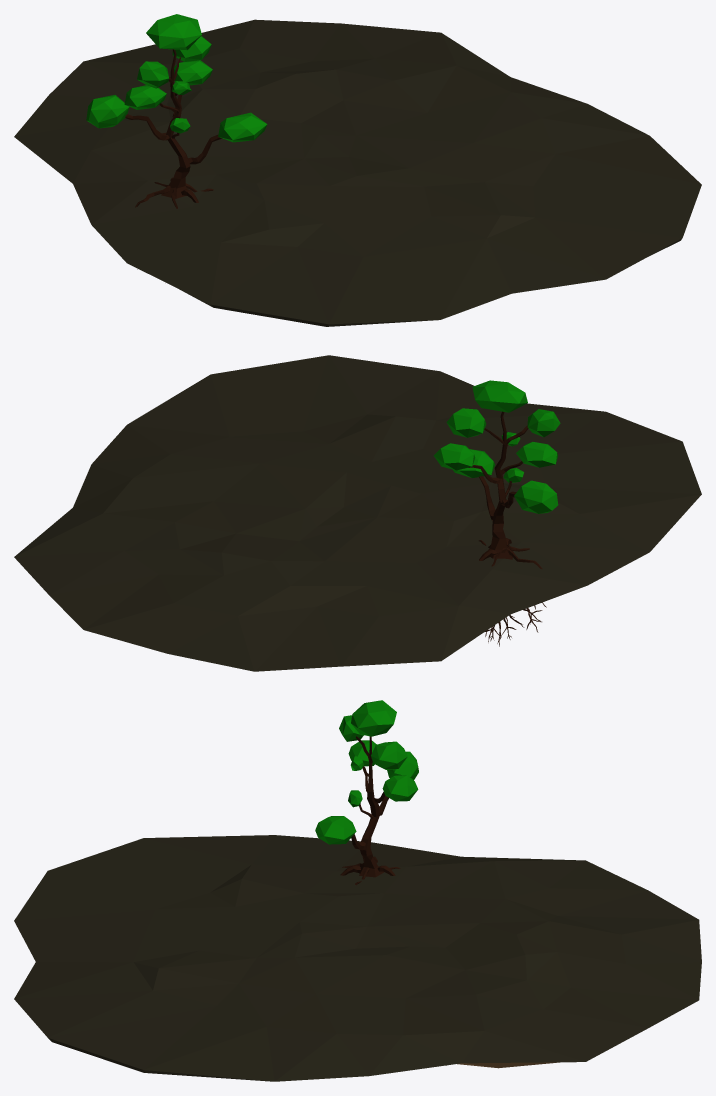
The model's file is FloatingIsland.obj.
3 views of the same model, one above another, from view 1: azimuth 30°, elevation 25°; view 2: azimuth 150°, elevation 25°; view 3: azimuth 270°, elevation 25° (orthographic). The views are drawn at different scales.
Visible parts, largest first — view 1: Land_Icosphere.020, Tree_Cylinder.035; view 2: Land_Icosphere.020, Tree_Cylinder.035; view 3: Land_Icosphere.020, Tree_Cylinder.035.
Part boxes in pixels (x1,y1,x2,y2): Land_Icosphere.020: [14, 19, 701, 326]; Tree_Cylinder.035: [86, 14, 267, 269]; Land_Icosphere.020: [14, 355, 701, 671]; Tree_Cylinder.035: [433, 380, 560, 646]; Land_Icosphere.020: [14, 835, 701, 1081]; Tree_Cylinder.035: [315, 700, 418, 885].
Bounding box in the file's own units: 67.19 × 33.67 × 79.16.
